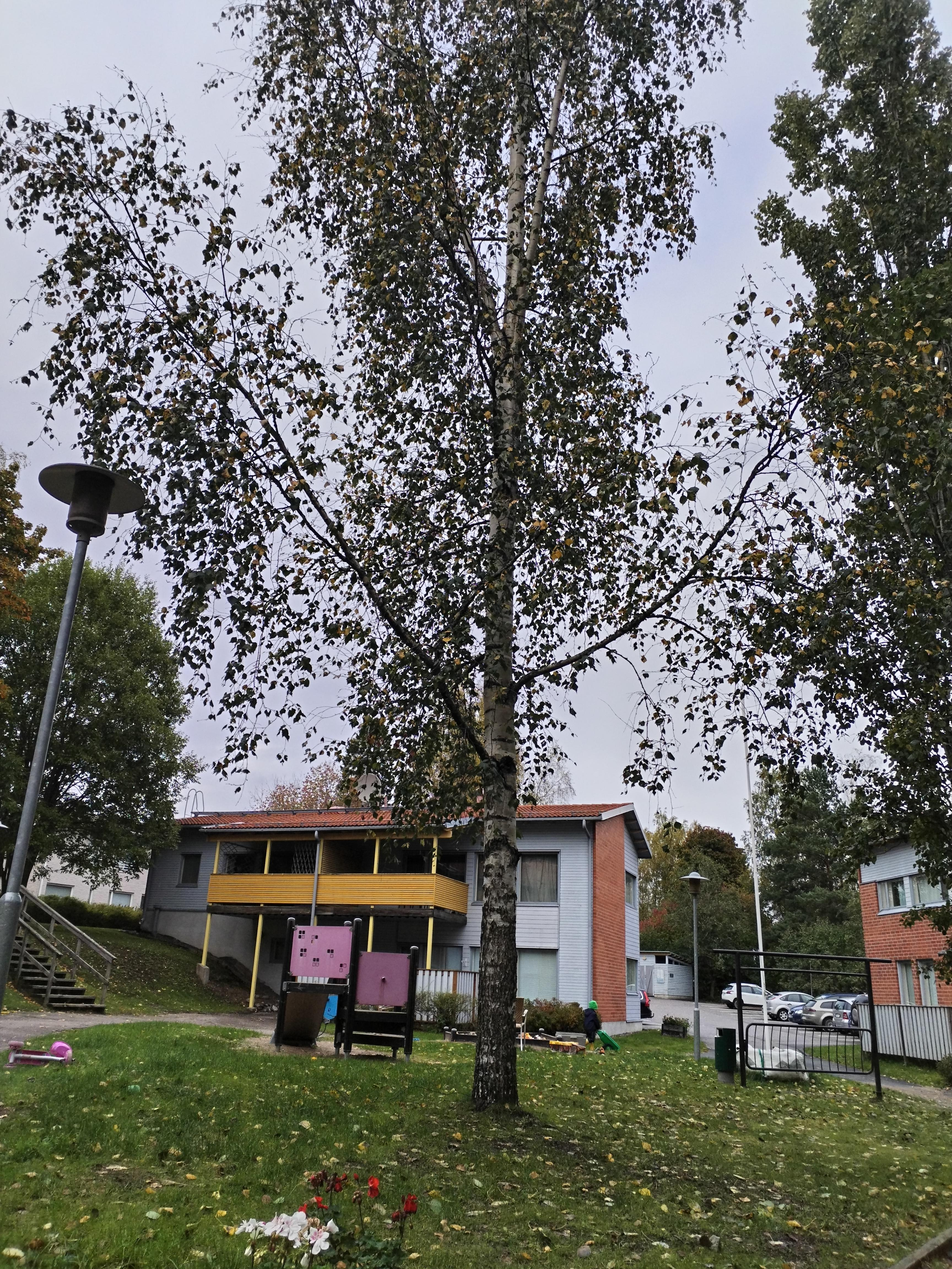Birch: (421, 6, 694, 1148)
